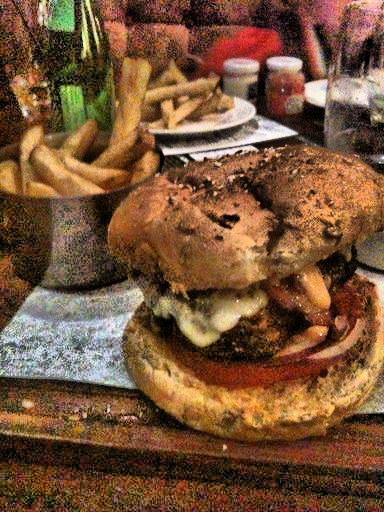burger: (105, 144, 384, 450)
